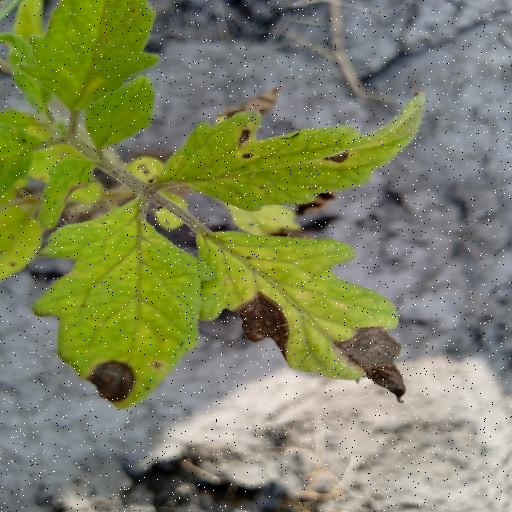Tomato_Brown_Spots: (30, 192, 218, 412), (186, 224, 408, 401), (150, 91, 434, 212), (17, 0, 168, 110)
